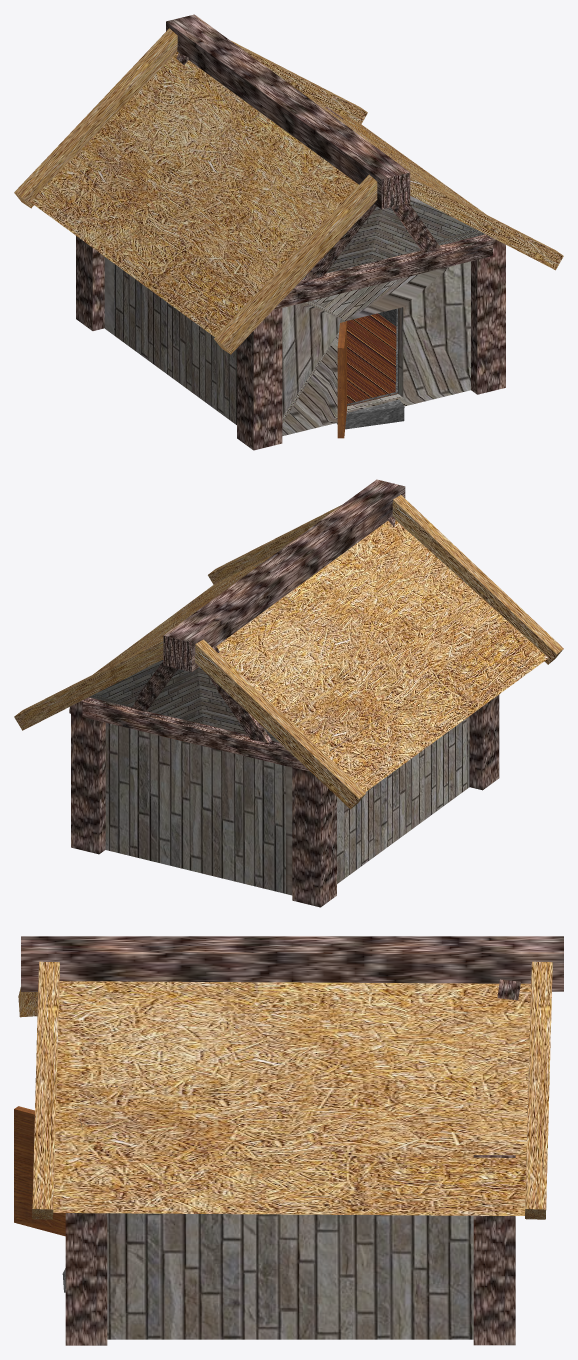
Rendered from house.glb.
The picture shows the model from 3 angles, top to bottom: view 1: azimuth 30°, elevation 25°; view 2: azimuth 150°, elevation 25°; view 3: azimuth 270°, elevation 25°; orthographic projection. The views are drawn at different scales.
Visible parts, largest first — view 1: Plane.005, Cube, Cube.005, Cube.002, Cube.009, Cube.001, Cube.013, Cube.008, Plane.007, Plane.004, Cube.006, Cube.003 (+6 smaller); view 2: Plane.005, Cube, Cube.005, Cube.003, Cube.008, Cube.004, Plane.008, Cube.012, Cube.009, Cube.007, Cube.002, Plane.006 (+3 smaller); view 3: Plane.006, Cube, Cube.005, Cube.004, Cube.001, Cube.006, Cube.007, Cube.018.
Boxes of the visible parts, <box> form: Plane.005: <box>30,52,358,336</box>; Cube: <box>104,257,470,435</box>; Cube.005: <box>166,14,410,209</box>; Cube.002: <box>237,308,282,450</box>; Cube.009: <box>214,174,377,354</box>; Cube.001: <box>471,234,505,394</box>; Cube.013: <box>273,234,493,310</box>; Cube.008: <box>14,28,177,208</box>; Plane.007: <box>302,196,484,279</box>; Plane.004: <box>347,313,397,405</box>; Cube.006: <box>410,175,563,270</box>; Cube.003: <box>76,236,104,330</box>; Plane.005: <box>216,520,548,791</box>; Cube: <box>105,716,469,895</box>; Cube.005: <box>163,479,405,672</box>; Cube.003: <box>292,767,336,907</box>; Cube.008: <box>195,639,366,809</box>; Cube.004: <box>71,697,105,854</box>; Plane.008: <box>89,660,279,742</box>; Cube.012: <box>82,697,310,771</box>; Cube.009: <box>392,495,563,664</box>; Cube.007: <box>14,639,163,730</box>; Cube.002: <box>469,694,499,790</box>; Plane.006: <box>93,555,272,674</box>; Plane.006: <box>53,981,530,1215</box>; Cube: <box>107,1213,473,1339</box>; Cube.005: <box>21,936,563,991</box>; Cube.004: <box>473,1155,515,1345</box>; Cube.001: <box>65,1213,107,1345</box>; Cube.006: <box>32,961,59,1219</box>; Cube.007: <box>525,961,552,1219</box>; Cube.018: <box>14,1106,65,1236</box>.
Bounding box in the file's own units: 24.18 × 17.54 × 26.33.
Materials: 29 (29 with a texture image).
